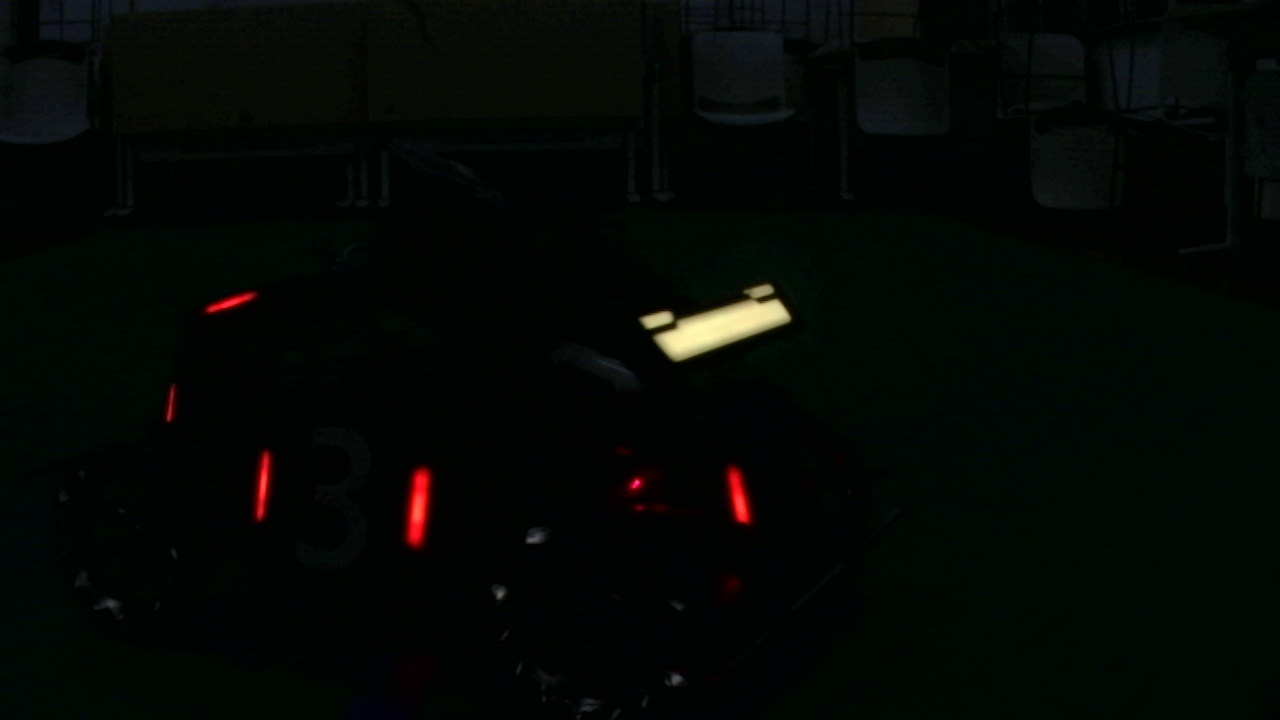lamp: (402, 455, 437, 547), (723, 456, 753, 531), (248, 449, 270, 521)
notpair1: (402, 458, 755, 549)
pair1: (252, 450, 433, 546)
